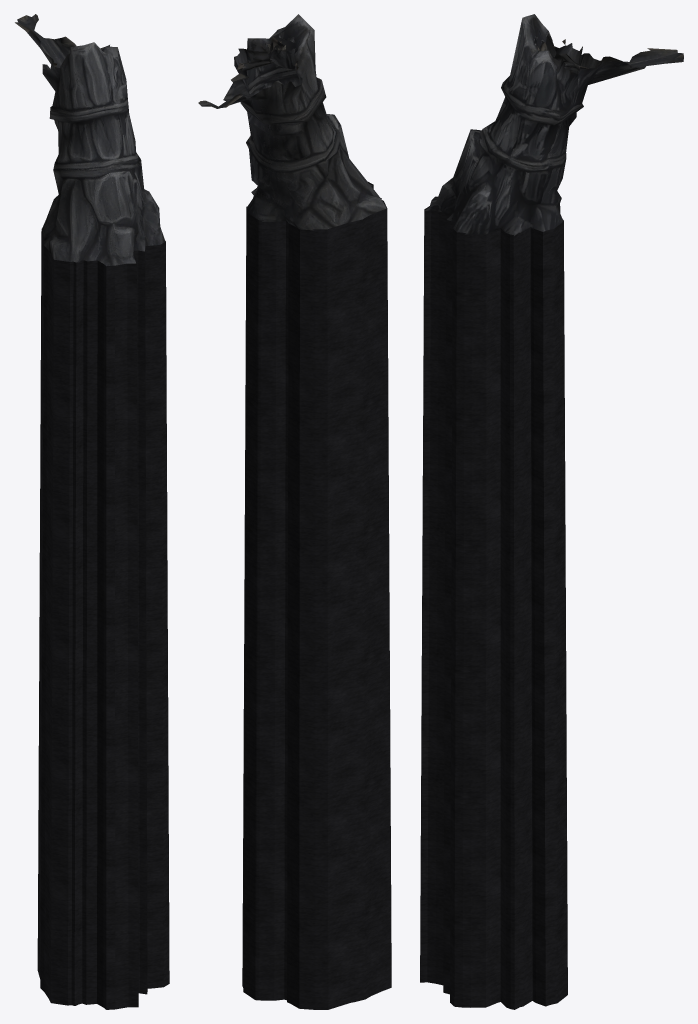
File: horaro_rock_pillar_1.glb
3 views of the same model, side by side, from view 1: azimuth 30°, elevation 25°; view 2: azimuth 150°, elevation 25°; view 3: azimuth 270°, elevation 25° (orthographic). The views are drawn at different scales.
Visible parts, largest first — view 1: horaro_rock_pillar_1_L1_foundation, horaro_rock_pillar_1; view 2: horaro_rock_pillar_1_L1_foundation, horaro_rock_pillar_1; view 3: horaro_rock_pillar_1_L1_foundation, horaro_rock_pillar_1.
Boxes of the visible parts, x1=… form: horaro_rock_pillar_1_L1_foundation: x1=37, y1=230, x2=169, y2=1009; horaro_rock_pillar_1: x1=15, y1=14, x2=165, y2=266; horaro_rock_pillar_1_L1_foundation: x1=242, y1=182, x2=391, y2=1009; horaro_rock_pillar_1: x1=198, y1=14, x2=386, y2=230; horaro_rock_pillar_1_L1_foundation: x1=420, y1=196, x2=567, y2=1009; horaro_rock_pillar_1: x1=425, y1=14, x2=683, y2=235.
Bounding box in the file's own units: 2 × 15.41 × 3.81.
Materials: 2 (2 with a texture image).
